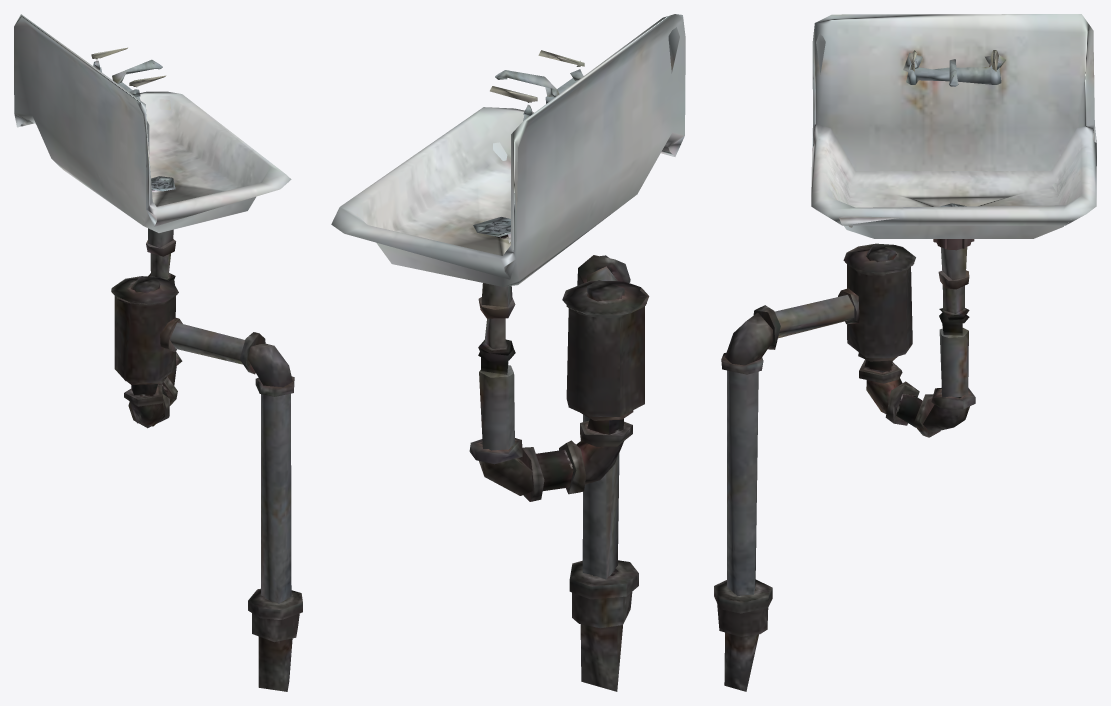
The model's file is bw-wash-sink.lod0.glb.
3 renders of one model, left to right at view 1: azimuth 30°, elevation 25°; view 2: azimuth 150°, elevation 25°; view 3: azimuth 270°, elevation 25°, orthographic. The views are drawn at different scales.
Parts seen in each view (by area): view 1: Object_16; view 2: Object_16; view 3: Object_16.
Part boxes in pixels (x1=…): Object_16: x1=14, y1=14, x2=302, y2=691; Object_16: x1=331, y1=14, x2=685, y2=691; Object_16: x1=714, y1=14, x2=1096, y2=691.
Bounding box in the file's own units: 0.2825 × 0.9983 × 0.5587.
1 material, 1 textured.
